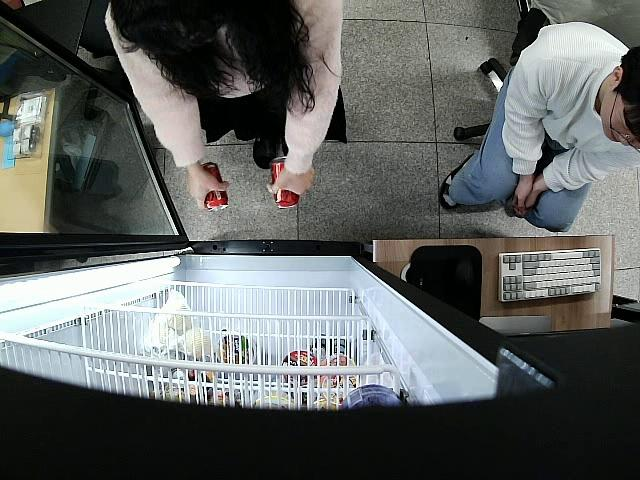00_hand: (189, 169, 228, 211), (267, 170, 313, 200)
11_cocaColaZero: (271, 155, 300, 210), (201, 163, 229, 215)
